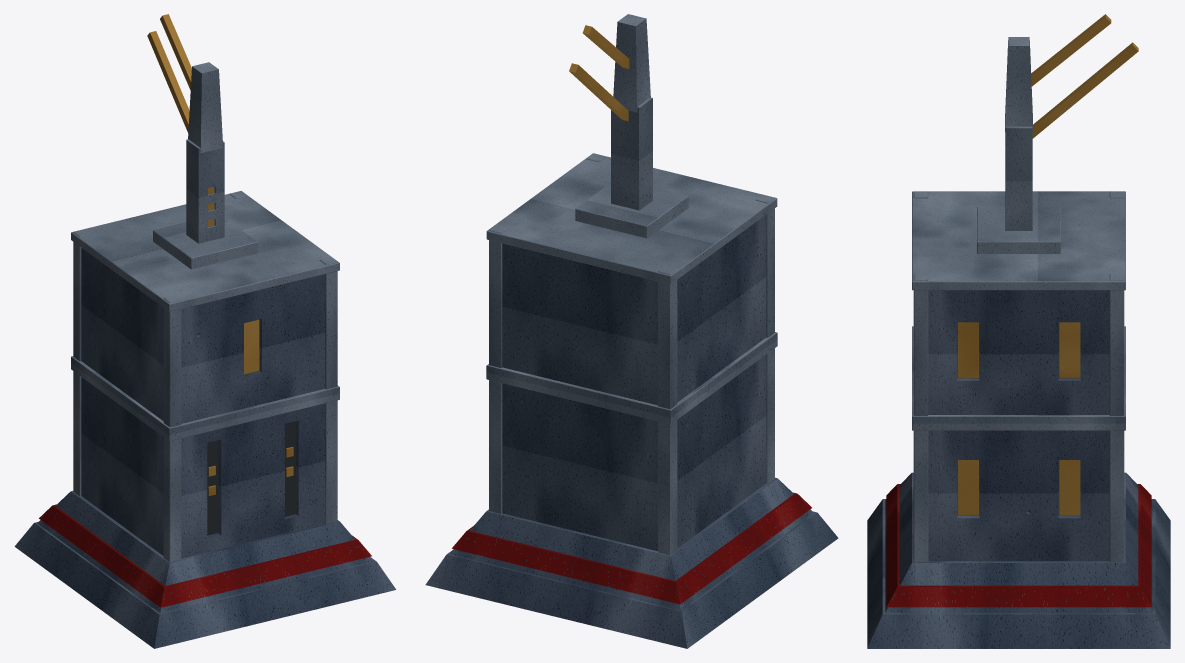
3 views of the same model, side by side, from view 1: azimuth 30°, elevation 25°; view 2: azimuth 150°, elevation 25°; view 3: azimuth 270°, elevation 25° (orthographic). The views are drawn at different scales.
Visible parts, largest first — view 1: Motion Units four corners middle ledge roof cap and seat, Motion Units lower storey, Motion Units upper storey, Motion Units grounded flared lower plinth, Motion Units flared upper plinth, Motion Units one continuous sloping base band, Motion Units supported lower mast, Motion Units five fields seven markers and two prongs, Motion Units tapered upper mast, Motion Units two seated dark front channels; view 2: Motion Units four corners middle ledge roof cap and seat, Motion Units lower storey, Motion Units upper storey, Motion Units grounded flared lower plinth, Motion Units flared upper plinth, Motion Units one continuous sloping base band, Motion Units supported lower mast, Motion Units tapered upper mast, Motion Units five fields seven markers and two prongs; view 3: Motion Units four corners middle ledge roof cap and seat, Motion Units lower storey, Motion Units upper storey, Motion Units grounded flared lower plinth, Motion Units flared upper plinth, Motion Units one continuous sloping base band, Motion Units five fields seven markers and two prongs, Motion Units supported lower mast, Motion Units tapered upper mast.
Boxes of the visible parts, bbox=[...] form: Motion Units four corners middle ledge roof cap and seat: bbox=[71, 191, 339, 562]; Motion Units lower storey: bbox=[81, 377, 325, 558]; Motion Units upper storey: bbox=[81, 248, 325, 423]; Motion Units grounded flared lower plinth: bbox=[14, 522, 396, 648]; Motion Units flared upper plinth: bbox=[37, 491, 373, 613]; Motion Units one continuous sloping base band: bbox=[39, 504, 371, 607]; Motion Units supported lower mast: bbox=[186, 139, 224, 243]; Motion Units five fields seven markers and two prongs: bbox=[147, 14, 293, 495]; Motion Units tapered upper mast: bbox=[188, 62, 223, 152]; Motion Units two seated dark front channels: bbox=[207, 421, 295, 535]; Motion Units four corners middle ledge roof cap and seat: bbox=[486, 153, 777, 555]; Motion Units lower storey: bbox=[502, 355, 766, 551]; Motion Units upper storey: bbox=[502, 215, 766, 405]; Motion Units grounded flared lower plinth: bbox=[425, 511, 838, 648]; Motion Units flared upper plinth: bbox=[450, 477, 813, 610]; Motion Units one continuous sloping base band: bbox=[452, 492, 811, 604]; Motion Units supported lower mast: bbox=[611, 97, 652, 210]; Motion Units tapered upper mast: bbox=[613, 14, 650, 112]; Motion Units five fields seven markers and two prongs: bbox=[569, 25, 629, 121]; Motion Units four corners middle ledge roof cap and seat: bbox=[912, 191, 1125, 562]; Motion Units lower storey: bbox=[928, 430, 1109, 561]; Motion Units upper storey: bbox=[928, 290, 1109, 414]; Motion Units grounded flared lower plinth: bbox=[867, 499, 1170, 648]; Motion Units flared upper plinth: bbox=[885, 472, 1152, 613]; Motion Units one continuous sloping base band: bbox=[886, 484, 1151, 607]; Motion Units five fields seven markers and two prongs: bbox=[957, 14, 1138, 515]; Motion Units supported lower mast: bbox=[1005, 126, 1032, 230]; Motion Units tapered upper mast: bbox=[1005, 37, 1032, 131].
Size of the model in its own units: 1.56 by 3.23 by 1.56.
5 materials, 4 textured.
